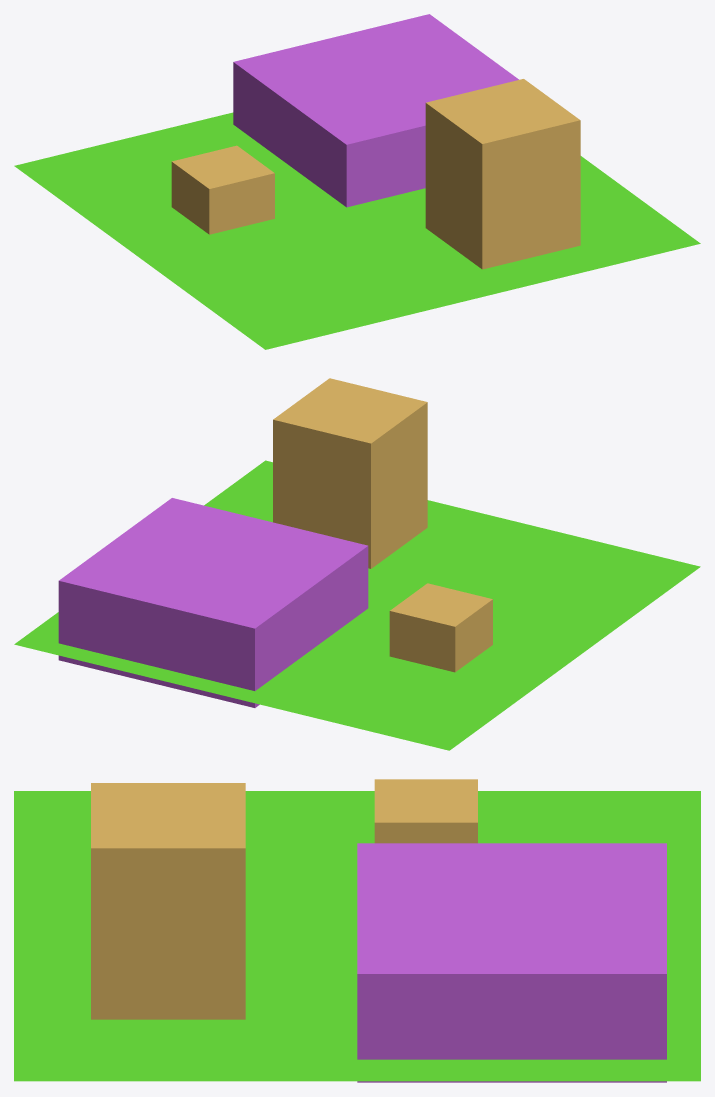
The picture shows the model from 3 angles, top to bottom: view 1: azimuth 30°, elevation 25°; view 2: azimuth 150°, elevation 25°; view 3: azimuth 270°, elevation 25°; orthographic projection. The views are drawn at different scales.
Visible parts, largest first — view 1: Plane, Cube.002, Cube.001, Cube; view 2: Plane, Cube.002, Cube.001, Cube; view 3: Plane, Cube.002, Cube.001, Cube.
Part boxes in pixels (box(x1,y1,x2,y2)): Plane: box(14, 112, 700, 349); Cube.002: box(233, 14, 518, 207); Cube.001: box(425, 79, 580, 269); Cube: box(171, 145, 274, 234); Plane: box(14, 460, 700, 750); Cube.002: box(58, 498, 368, 707); Cube.001: box(273, 378, 427, 568); Cube: box(389, 583, 492, 672); Plane: box(14, 791, 700, 1081); Cube.002: box(357, 843, 666, 1082); Cube.001: box(91, 783, 245, 1019); Cube: box(374, 779, 477, 843).
Bounding box in the file's own units: 39.94 × 12.99 × 39.94.
